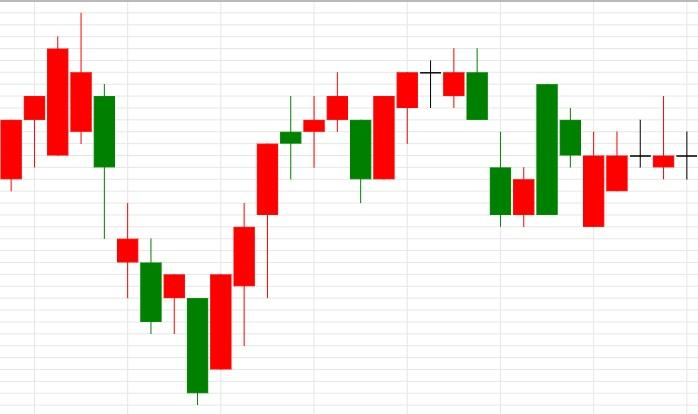bearish_engulfing_fall: (349, 48, 490, 203)
